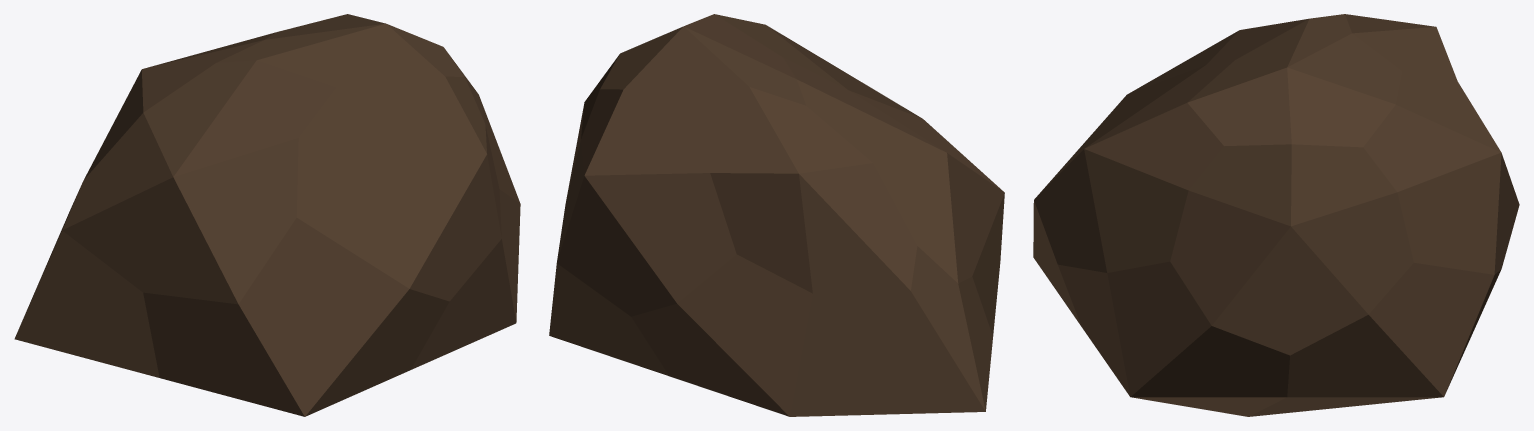
The model's file is Rock_1_Dark_Brown.fbx.
3 views of the same model, side by side, from view 1: azimuth 30°, elevation 25°; view 2: azimuth 150°, elevation 25°; view 3: azimuth 270°, elevation 25° (orthographic). The views are drawn at different scales.
Visible parts, largest first — view 1: Rock_1_Dark_Brown; view 2: Rock_1_Dark_Brown; view 3: Rock_1_Dark_Brown.
Boxes of the visible parts, x1,y1,x2,y2 form: Rock_1_Dark_Brown: (14,14,520,416); Rock_1_Dark_Brown: (549,14,1004,416); Rock_1_Dark_Brown: (1033,14,1519,416).
Size of the model in its own units: 189 by 132 by 163.
